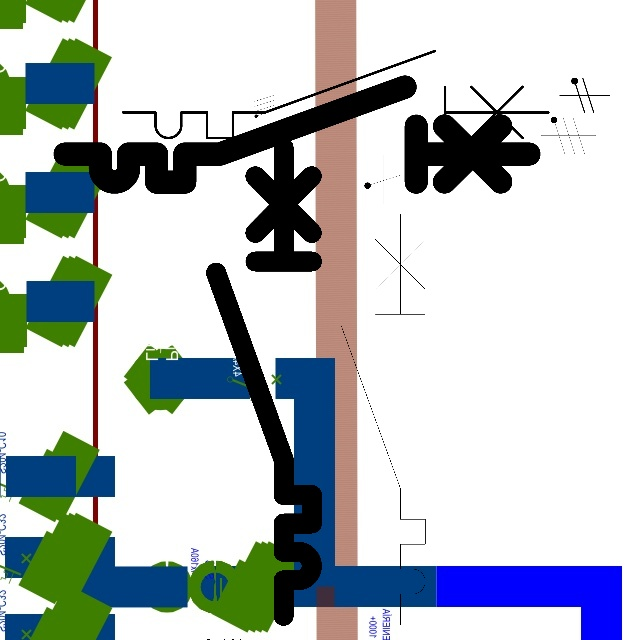interruptor_termomagnetico: (204, 135, 324, 627), (53, 75, 541, 194), (112, 40, 559, 149), (330, 203, 436, 635)
